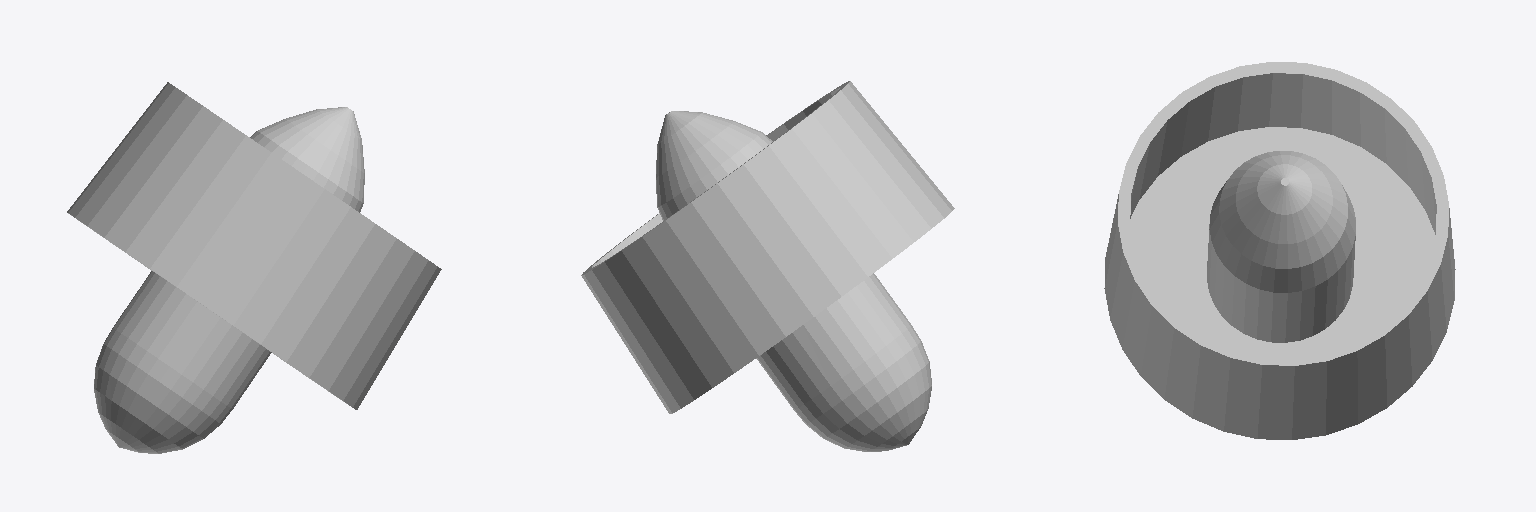
The model's file is duct_bottom_right_phy.obj.
3 views of the same model, side by side, from view 1: azimuth 30°, elevation 25°; view 2: azimuth 150°, elevation 25°; view 3: azimuth 270°, elevation 25° (orthographic).
Parts seen in each view (by area): view 1: duct_bottom_right_phy; view 2: duct_bottom_right_phy; view 3: duct_bottom_right_phy.
Part boxes in pixels (bbox=[...]): duct_bottom_right_phy: bbox=[67, 82, 441, 453]; duct_bottom_right_phy: bbox=[581, 81, 954, 451]; duct_bottom_right_phy: bbox=[1104, 62, 1455, 439].
Size of the model in its own units: 0.0989 by 0.0999 by 0.0953.